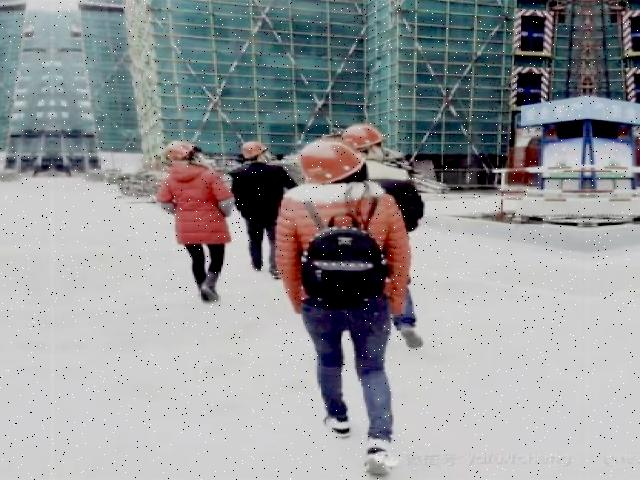Helmet: (287, 130, 368, 188), (336, 117, 384, 154), (159, 137, 197, 163), (236, 138, 268, 160)
